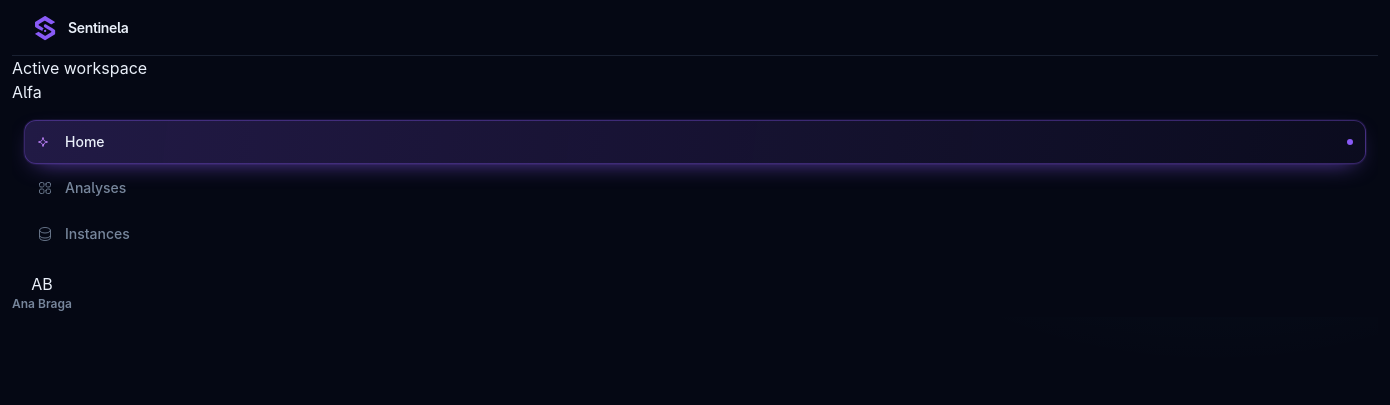
Test: M25 · 3. WorkspaceSwitcher › com UM workspace o painel CONTINUA abrindo — ele deixou de ser só troca
The image size is (1390, 405).
Step 1. Click the button with aria-label "Switch workspace" → point(27, 92), box [12,80,42,104]
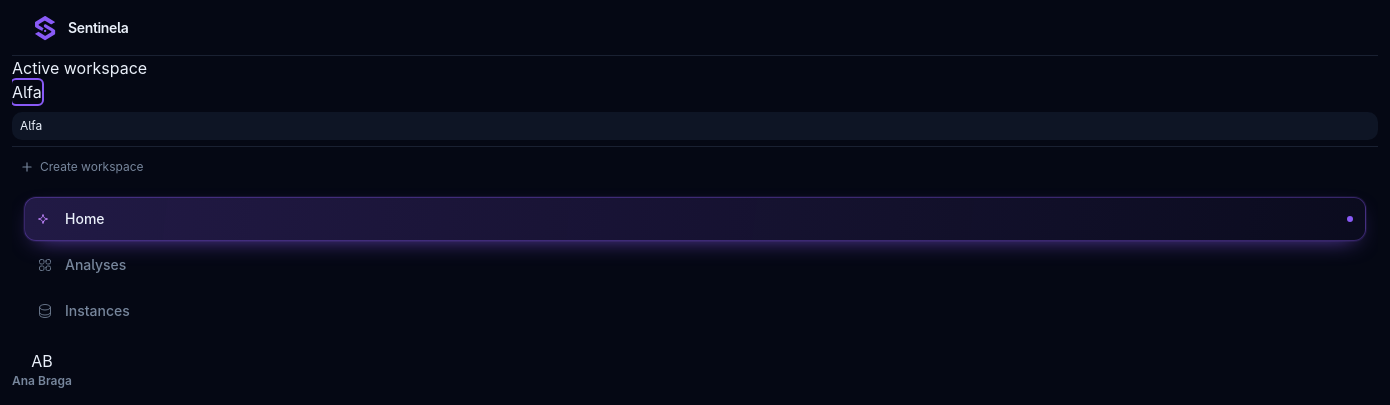
Now the button "Create workspace" is shown, box [12,153,1378,181]
